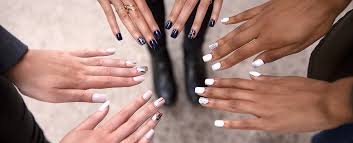nail: (96, 101, 110, 112), (142, 127, 154, 139), (153, 97, 166, 108), (251, 58, 265, 68), (136, 65, 150, 74), (93, 93, 107, 102), (141, 89, 152, 100), (207, 40, 219, 50), (151, 111, 163, 121), (198, 96, 209, 106), (201, 53, 212, 63), (149, 37, 158, 49), (213, 119, 225, 127), (194, 86, 206, 94), (203, 77, 215, 85), (187, 29, 196, 39), (212, 62, 222, 70), (249, 70, 261, 76), (170, 29, 178, 38), (164, 20, 172, 29), (136, 36, 145, 44), (105, 47, 117, 53), (124, 59, 136, 65), (132, 76, 145, 81), (153, 29, 161, 37), (116, 33, 123, 41), (209, 20, 216, 27), (220, 17, 229, 22)
